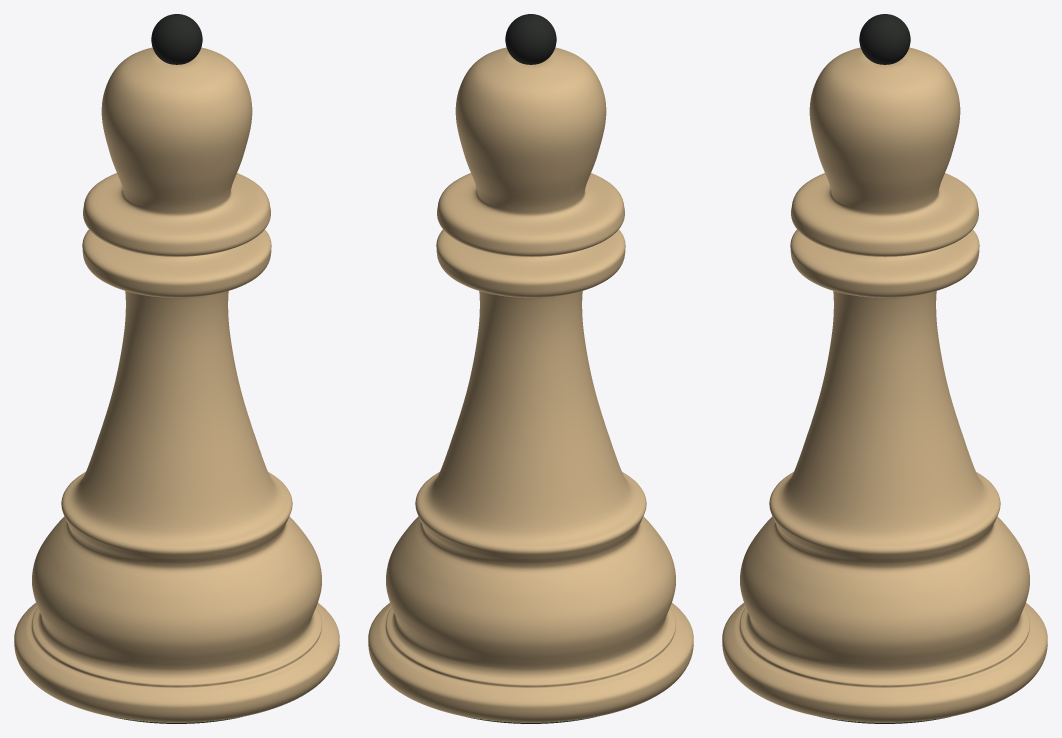
The model's file is bishop.glb.
3 views of the same model, side by side, from view 1: azimuth 30°, elevation 25°; view 2: azimuth 150°, elevation 25°; view 3: azimuth 270°, elevation 25° (orthographic).
Parts seen in each view (by area): view 1: Piece_Bishop; view 2: Piece_Bishop; view 3: Piece_Bishop.
Part boxes in pixels (bbox=[...]): Piece_Bishop: bbox=[14, 14, 339, 723]; Piece_Bishop: bbox=[368, 14, 693, 723]; Piece_Bishop: bbox=[722, 14, 1047, 723].
Bounding box in the file's own units: 0.0356 × 0.0784 × 0.0356.
